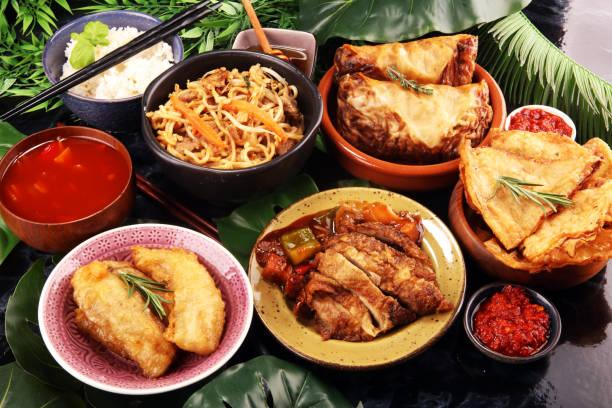Braised Crucian Carp: (248, 186, 465, 372), (37, 223, 247, 397), (140, 49, 317, 207), (453, 129, 612, 290), (317, 60, 499, 191), (0, 125, 133, 253), (41, 9, 176, 132)
